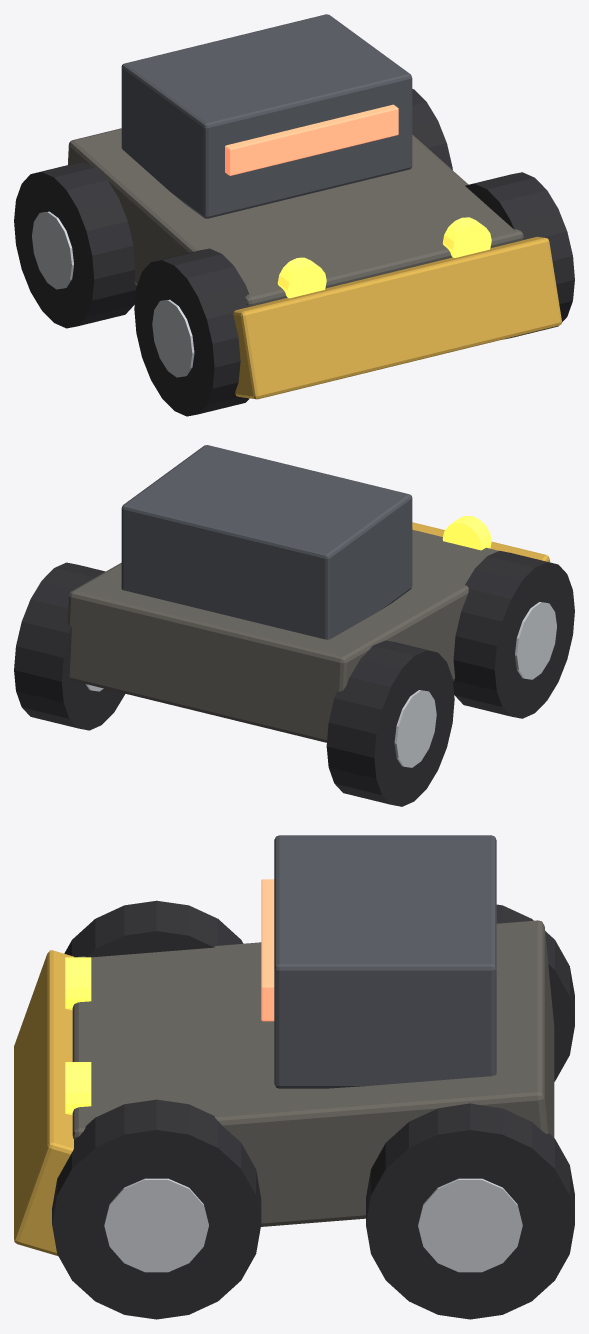
File: enemy_scavenger_buggy.glb
The picture shows the model from 3 angles, top to bottom: view 1: azimuth 30°, elevation 25°; view 2: azimuth 150°, elevation 25°; view 3: azimuth 270°, elevation 25°; orthographic projection. The views are drawn at different scales.
Visible parts, largest first — view 1: BuggyCab, BuggyChassis, RamPlow, Wheel_-0.72_0.48, Wheel_-0.72_-0.48, BuggyVisorSlit, Wheel_0.72_-0.48, Hub_-0.72_-0.48, Hub_-0.72_0.48, Wheel_0.72_0.48, Headlight_-0.38, Headlight_0.38; view 2: BuggyCab, BuggyChassis, Wheel_-0.72_0.48, Wheel_-0.72_-0.48, Wheel_0.72_0.48, Hub_-0.72_-0.48, Hub_-0.72_0.48, Headlight_-0.38, RamPlow; view 3: BuggyChassis, BuggyCab, Wheel_0.72_-0.48, Wheel_0.72_0.48, RamPlow, Hub_0.72_-0.48, Hub_0.72_0.48, Wheel_-0.72_-0.48, Wheel_-0.72_0.48, BuggyVisorSlit, Headlight_-0.38, Headlight_0.38.
Part boxes in pixels (<box>): BuggyCab: <box>121,14,412,218</box>; BuggyChassis: <box>68,128,523,306</box>; RamPlow: <box>233,236,561,399</box>; Wheel_-0.72_0.48: <box>14,162,136,328</box>; Wheel_-0.72_-0.48: <box>134,248,249,416</box>; BuggyVisorSlit: <box>225,104,398,175</box>; Wheel_0.72_-0.48: <box>465,172,574,339</box>; Hub_-0.72_-0.48: <box>152,299,194,377</box>; Hub_-0.72_0.48: <box>32,211,73,289</box>; Wheel_0.72_0.48: <box>412,89,452,169</box>; Headlight_-0.38: <box>277,257,326,298</box>; Headlight_0.38: <box>442,217,491,257</box>; BuggyCab: <box>121,445,412,639</box>; BuggyChassis: <box>67,529,498,742</box>; Wheel_-0.72_0.48: <box>326,640,454,806</box>; Wheel_-0.72_-0.48: <box>453,550,574,718</box>; Wheel_0.72_0.48: <box>14,562,125,730</box>; Hub_-0.72_-0.48: <box>515,602,556,679</box>; Hub_-0.72_0.48: <box>394,690,436,767</box>; Headlight_-0.38: <box>442,516,491,550</box>; RamPlow: <box>412,522,549,562</box>; BuggyChassis: <box>72,920,554,1226</box>; BuggyCab: <box>274,835,496,1088</box>; Wheel_0.72_-0.48: <box>52,1099,261,1319</box>; Wheel_0.72_0.48: <box>366,1103,574,1319</box>; RamPlow: <box>14,950,73,1255</box>; Hub_0.72_-0.48: <box>104,1178,208,1272</box>; Hub_0.72_0.48: <box>418,1178,522,1272</box>; Wheel_-0.72_-0.48: <box>64,900,243,957</box>; Wheel_-0.72_0.48: <box>496,904,574,1081</box>; BuggyVisorSlit: <box>261,879,274,1021</box>; Headlight_-0.38: <box>65,957,91,1010</box>; Headlight_0.38: <box>65,1062,91,1115</box>.
Bounding box in the file's own units: 1.68 × 1.03 × 1.72.
